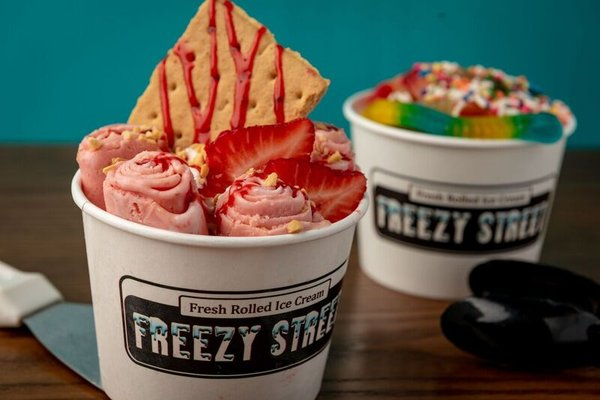pizza: (72, 169, 366, 395), (344, 61, 574, 301)
soup: (78, 0, 366, 240)
